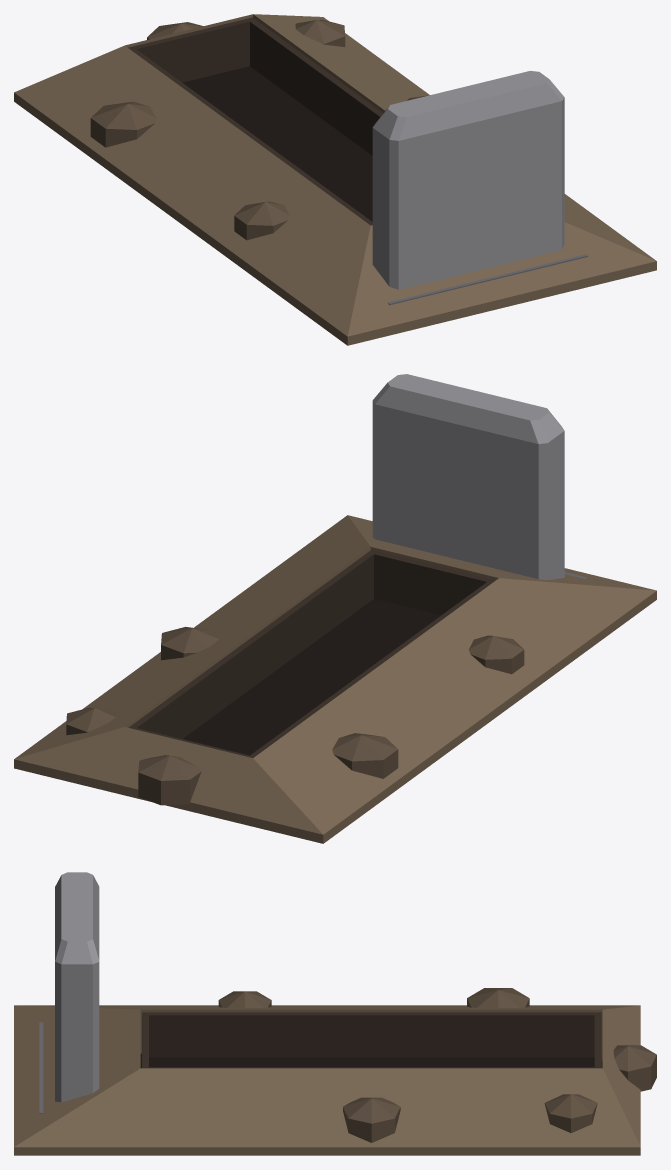
Rendered from grave_b8_empty.obj.
3 renders of one model, top to bottom at view 1: azimuth 30°, elevation 25°; view 2: azimuth 150°, elevation 25°; view 3: azimuth 270°, elevation 25°, orthographic. The views are drawn at different scales.
Visible parts, largest first — view 1: grave_b8_empty_3, grave_b8_empty_15, grave_b8_empty_0, grave_b8_empty_4, grave_b8_empty_1, grave_b8_empty_16, grave_b8_empty_8, grave_b8_empty_6, grave_b8_empty_9, grave_b8_empty_11, grave_b8_empty_7, grave_b8_empty_12 (+1 smaller); view 2: grave_b8_empty_3, grave_b8_empty_15, grave_b8_empty_2, grave_b8_empty_1, grave_b8_empty_4, grave_b8_empty_8, grave_b8_empty_16, grave_b8_empty_5, grave_b8_empty_0, grave_b8_empty_13, grave_b8_empty_9, grave_b8_empty_11 (+3 smaller); view 3: grave_b8_empty_1, grave_b8_empty_7, grave_b8_empty_0, grave_b8_empty_15, grave_b8_empty_4, grave_b8_empty_16, grave_b8_empty_3, grave_b8_empty_2, grave_b8_empty_10, grave_b8_empty_12, grave_b8_empty_13, grave_b8_empty_9 (+4 smaller).
Boxes of the visible parts, x1,y1,x2,y2 form: grave_b8_empty_3: (14,45,370,345); grave_b8_empty_15: (372,97,564,289); grave_b8_empty_0: (347,222,656,345); grave_b8_empty_4: (182,66,372,221); grave_b8_empty_1: (253,14,655,260); grave_b8_empty_16: (373,71,564,140); grave_b8_empty_8: (250,17,383,155); grave_b8_empty_6: (128,17,255,82); grave_b8_empty_9: (90,101,156,147); grave_b8_empty_11: (234,201,289,240); grave_b8_empty_7: (129,47,372,223); grave_b8_empty_12: (295,19,345,46); grave_b8_empty_3: (253,578,656,843); grave_b8_empty_15: (372,401,564,580); grave_b8_empty_2: (14,727,323,843); grave_b8_empty_1: (15,515,370,758); grave_b8_empty_4: (183,599,440,755); grave_b8_empty_8: (129,550,376,738); grave_b8_empty_16: (373,374,564,443); grave_b8_empty_5: (368,550,495,615); grave_b8_empty_0: (348,515,656,590); grave_b8_empty_13: (138,755,201,805); grave_b8_empty_9: (332,733,398,778); grave_b8_empty_11: (469,635,524,674); grave_b8_empty_1: (14,1068,640,1155); grave_b8_empty_7: (144,1012,601,1057); grave_b8_empty_0: (14,1005,140,1146); grave_b8_empty_15: (55,961,99,1102); grave_b8_empty_4: (140,1053,594,1068); grave_b8_empty_16: (55,872,99,964); grave_b8_empty_3: (18,1005,639,1053); grave_b8_empty_2: (602,1005,640,1146); grave_b8_empty_10: (343,1097,400,1142); grave_b8_empty_12: (544,1094,597,1132); grave_b8_empty_13: (601,1045,656,1091); grave_b8_empty_9: (467,988,529,1007).
Size of the model in its own units: 1.06 by 0.62 by 2.03.
